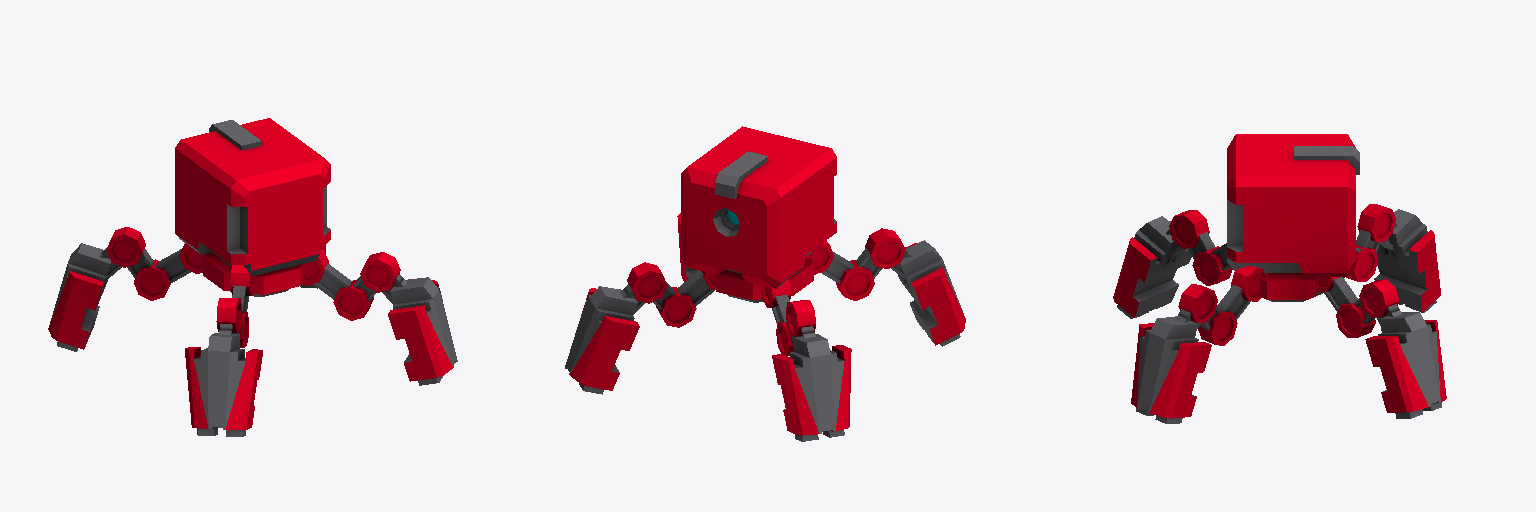
3 views of the same model, side by side, from view 1: azimuth 30°, elevation 25°; view 2: azimuth 150°, elevation 25°; view 3: azimuth 270°, elevation 25° (orthographic).
Parts seen in each view (by area): view 1: Box006, Object021, Object017, Object025, Object020, Object028, Object027, Object018, Object019, Object026, Object024, Object022; view 2: Box006, Object025, Object013, Object021, Object016, Object024, Object023, Object015, Object022, Object028, Object014, Object026; view 3: Box006, Object017, Object013, Object021, Object025, Object018, Object016, Object023, Object020, Object024, Object028, Object015 (+3 smaller).
Part boxes in pixels (x1,y1,x2,y2): Box006: (175, 118, 330, 296); Object021: (185, 333, 262, 436); Object017: (388, 277, 457, 385); Object025: (48, 243, 110, 351); Object020: (360, 252, 406, 304); Object028: (100, 227, 145, 280); Object027: (127, 249, 170, 300); Object018: (302, 249, 351, 299); Object019: (333, 276, 376, 320); Object026: (156, 243, 212, 283); Object024: (216, 298, 241, 334); Object022: (231, 265, 253, 312); Box006: (681, 126, 836, 302); Object025: (772, 334, 851, 441); Object013: (565, 286, 639, 394); Object021: (898, 240, 965, 346); Object016: (620, 262, 667, 313); Object024: (865, 228, 911, 279); Object023: (836, 248, 882, 300); Object015: (653, 282, 696, 327); Object022: (806, 240, 854, 283); Object028: (786, 300, 815, 338); Object014: (677, 270, 725, 305); Object026: (762, 279, 790, 323); Box006: (1227, 134, 1359, 301); Object017: (1131, 316, 1211, 423); Object013: (1365, 312, 1446, 418); Object021: (1113, 216, 1191, 318); Object025: (1374, 209, 1440, 312); Object018: (1217, 266, 1268, 320); Object016: (1359, 279, 1401, 323); Object023: (1188, 232, 1232, 285); Object020: (1176, 284, 1217, 328); Object024: (1166, 210, 1209, 257); Object028: (1357, 204, 1397, 250); Object015: (1336, 298, 1375, 337).
Bounding box in the file's own units: 150 × 108 × 153.
1 materials, 1 textured.